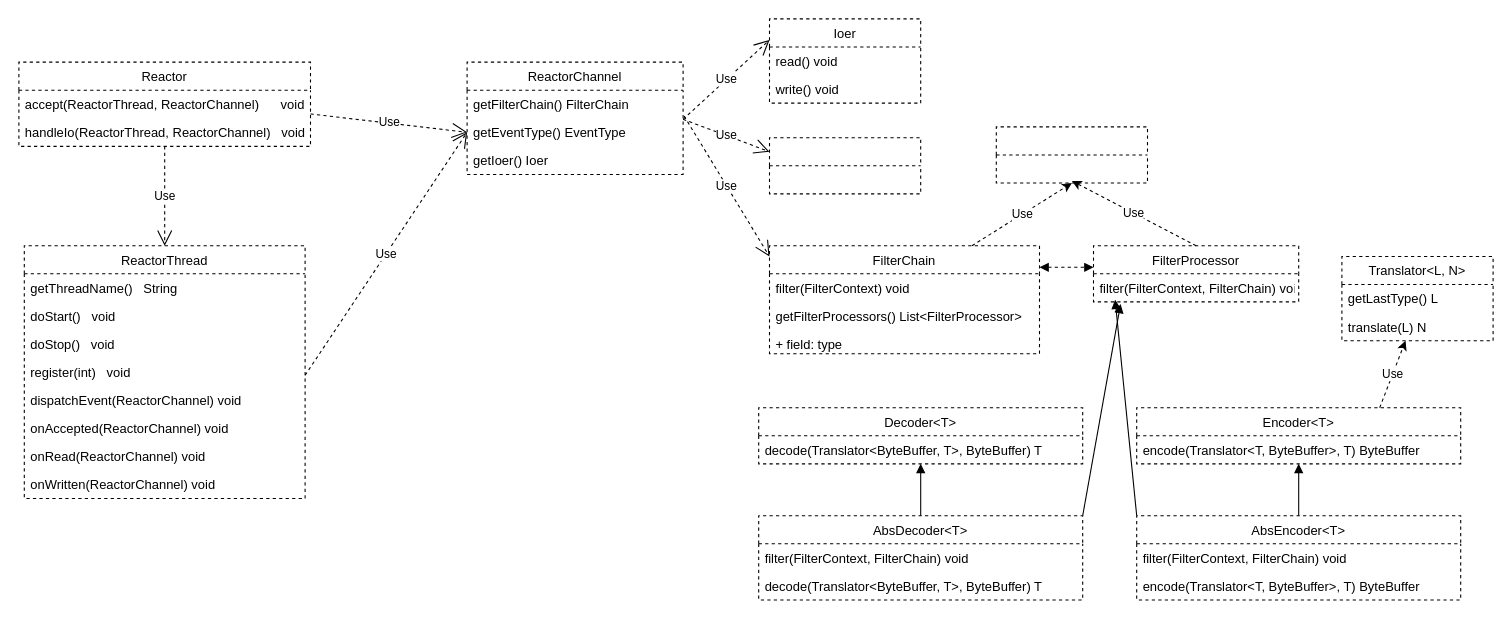
Some shapes in this 1512 by 622 pixel diagram are drawn without their labels. The centre of each missing label's shape, as x and y in pixels:
"EventType" goes at (844,165).
"FilterContext" goes at (1071,154).
